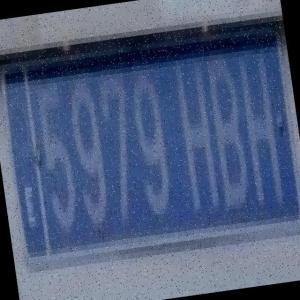Plate: (0, 25, 300, 266)
